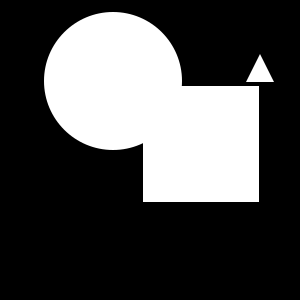circle: (143, 86, 259, 202)
rectangle: (44, 12, 182, 150)
triangle: (246, 54, 274, 82)
